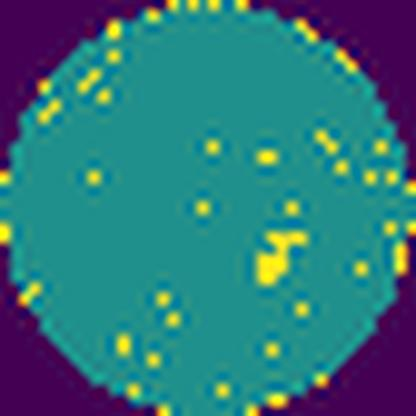Loc: (254, 229, 309, 287)
